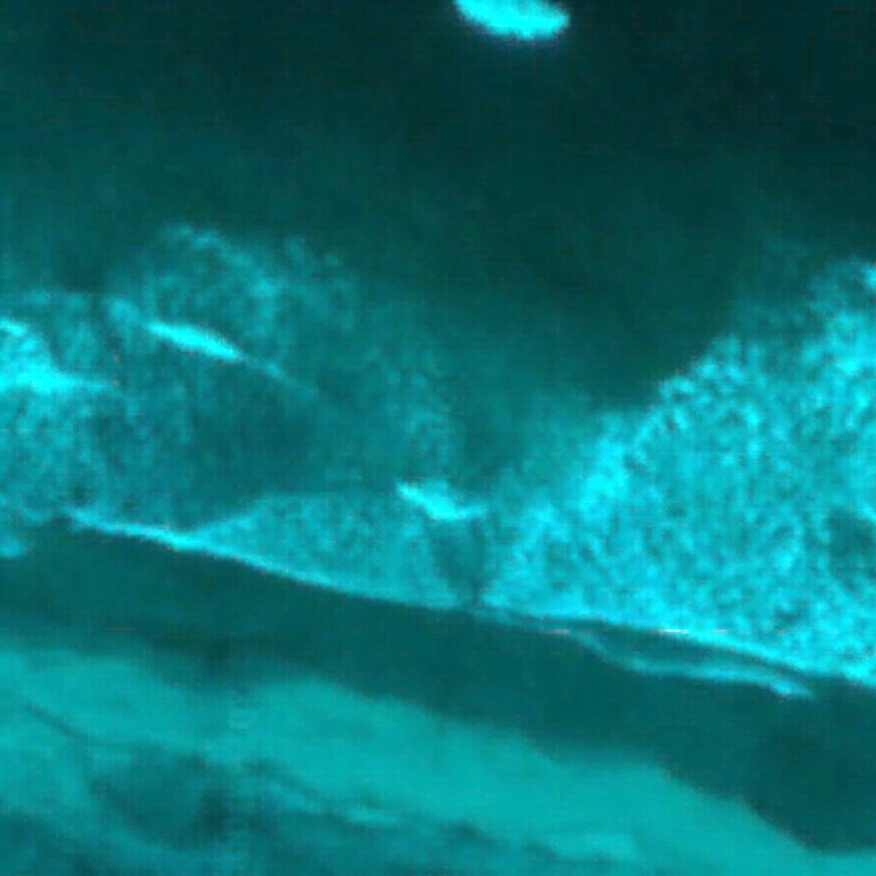rip_current: (353, 245, 615, 587)
